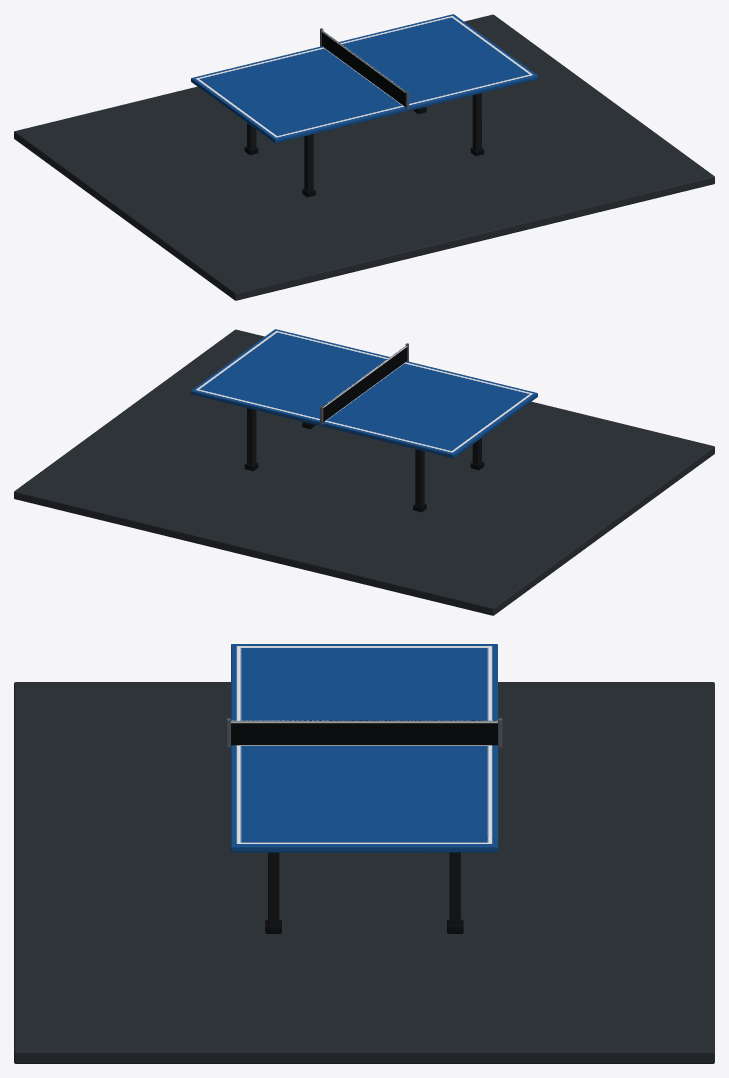
Rendered from MesaTenis.obj.
3 renders of one model, top to bottom at view 1: azimuth 30°, elevation 25°; view 2: azimuth 150°, elevation 25°; view 3: azimuth 270°, elevation 25°, orthographic. The views are drawn at different scales.
Parts seen in each view (by area): view 1: Piso_de_referencia, Tablero_azul_con_líneas, Red_de_tenis_de_mesa, Pata_metálica, Pata_metálica.002; view 2: Piso_de_referencia, Tablero_azul_con_líneas, Red_de_tenis_de_mesa, Pata_metálica.001, Pata_metálica.003; view 3: Piso_de_referencia, Tablero_azul_con_líneas, Red_de_tenis_de_mesa, Borde_superior_blanco_de_red, Pata_metálica.002, Pata_metálica.003.
Part boxes in pixels (box(x1,y1,x2,y2)): Piso_de_referencia: box(14, 14, 714, 300); Tablero_azul_con_líneas: box(191, 14, 537, 143); Red_de_tenis_de_mesa: box(321, 30, 405, 106); Pata_metálica: box(304, 134, 313, 191); Pata_metálica.002: box(472, 93, 481, 150); Piso_de_referencia: box(14, 329, 714, 615); Tablero_azul_con_líneas: box(191, 329, 537, 458); Red_de_tenis_de_mesa: box(323, 345, 407, 421); Pata_metálica.001: box(415, 449, 424, 506); Pata_metálica.003: box(247, 408, 256, 465); Piso_de_referencia: box(14, 682, 714, 1063); Tablero_azul_con_líneas: box(231, 644, 497, 852); Red_de_tenis_de_mesa: box(231, 720, 497, 745); Borde_superior_blanco_de_red: box(231, 720, 497, 723); Pata_metálica.002: box(268, 852, 279, 925); Pata_metálica.003: box(449, 852, 460, 925).
Size of the model in its own units: 5 by 1.01 by 4.
7 materials, 1 textured.
